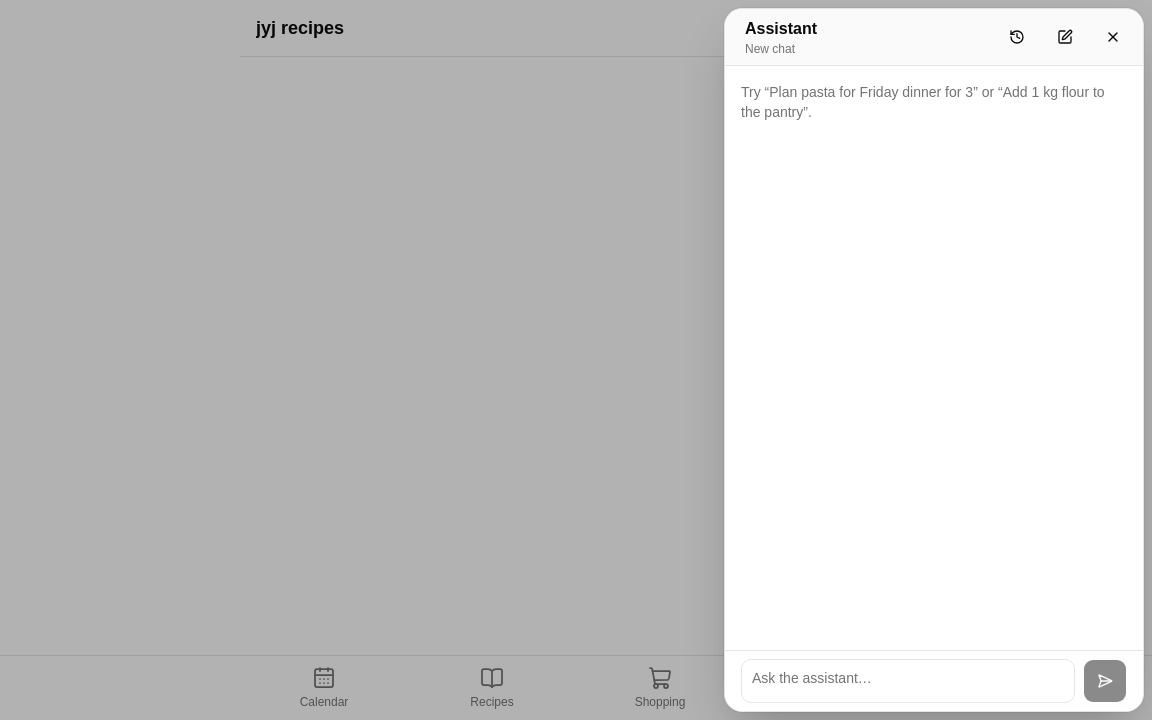
chat › stops the stream with the Stop button
Type "Hello" into the text box named "Message" at (908, 681), box [741,659,1075,703]
Then press Enter
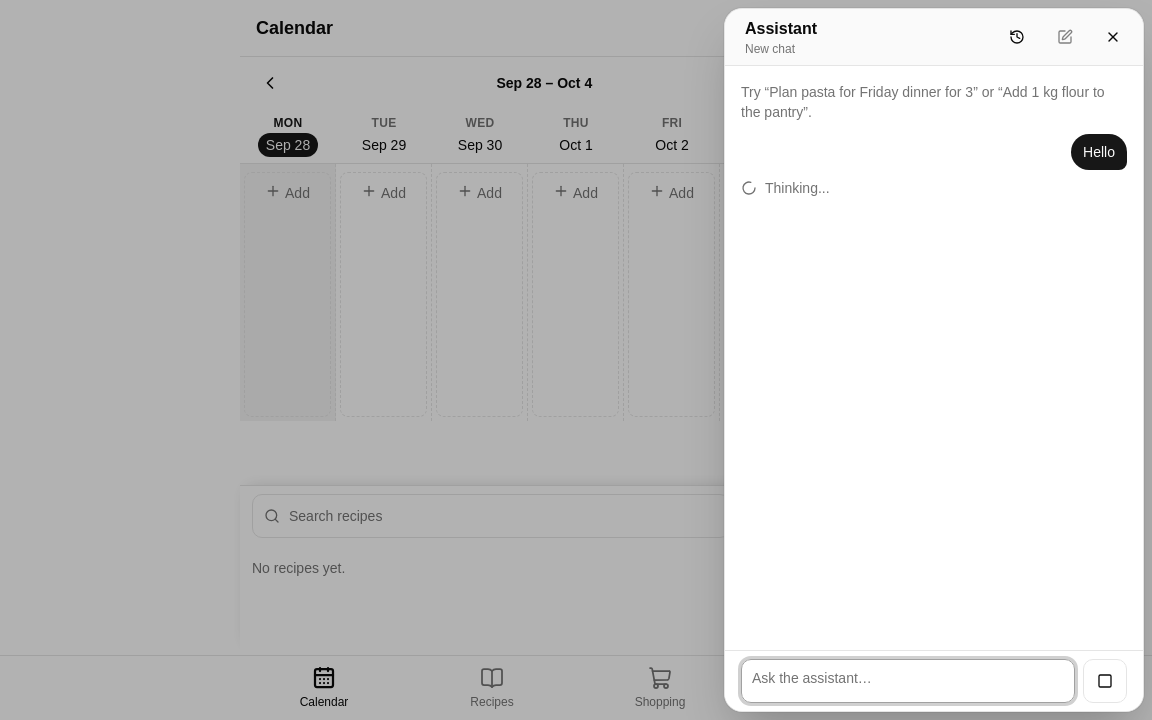
Expected: the text "Thinking..." is shown, [741,180,830,196]
Click the button named "Stop" at (1105, 681), box [1083,659,1127,703]
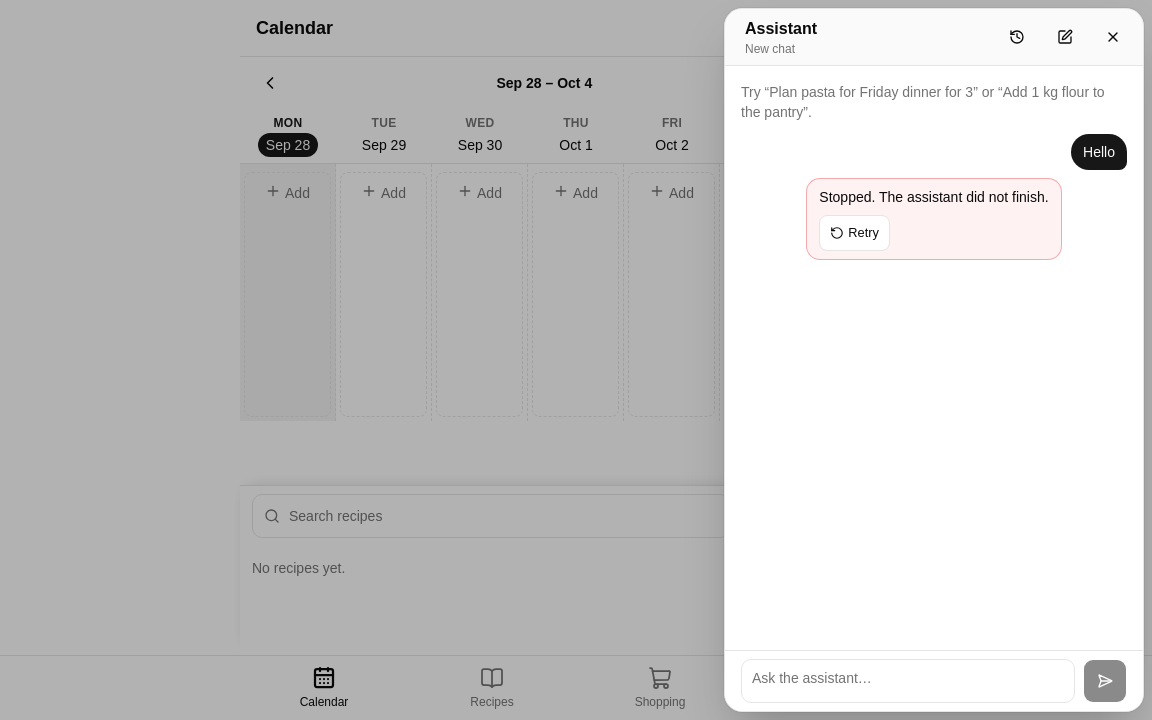
Expected: the message shows "Stopped.", [819,189,1049,205]
